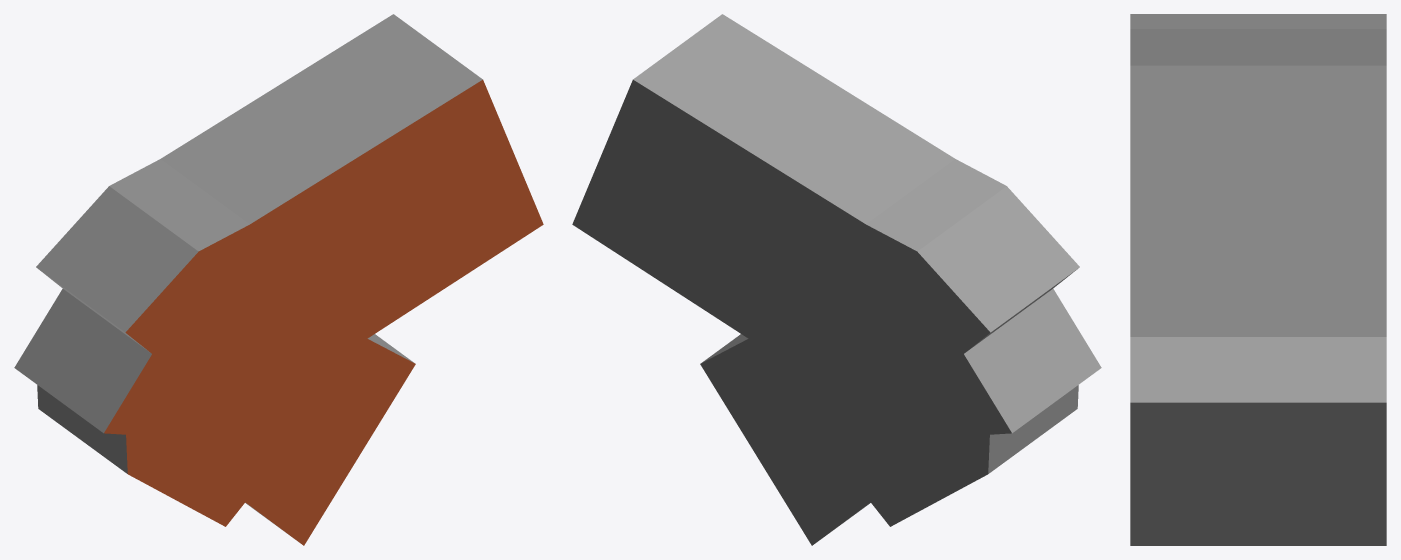
The model's file is construction_3046_assumed_A_Casa_h6m.obj.
The picture shows the model from 3 angles, left to right: view 1: azimuth 30°, elevation 25°; view 2: azimuth 150°, elevation 25°; view 3: azimuth 270°, elevation 25°; orthographic projection. The views are drawn at different scales.
Parts seen in each view (by area): view 1: construction_3046_assumed_A_Casa; view 2: construction_3046_assumed_A_Casa; view 3: construction_3046_assumed_A_Casa.
Part boxes in pixels (x1,y1,x2,y2): construction_3046_assumed_A_Casa: (14,14,543,545); construction_3046_assumed_A_Casa: (572,14,1101,545); construction_3046_assumed_A_Casa: (1130,14,1386,545).
Bounding box in the file's own units: 17.02 × 15.63 × 6.
